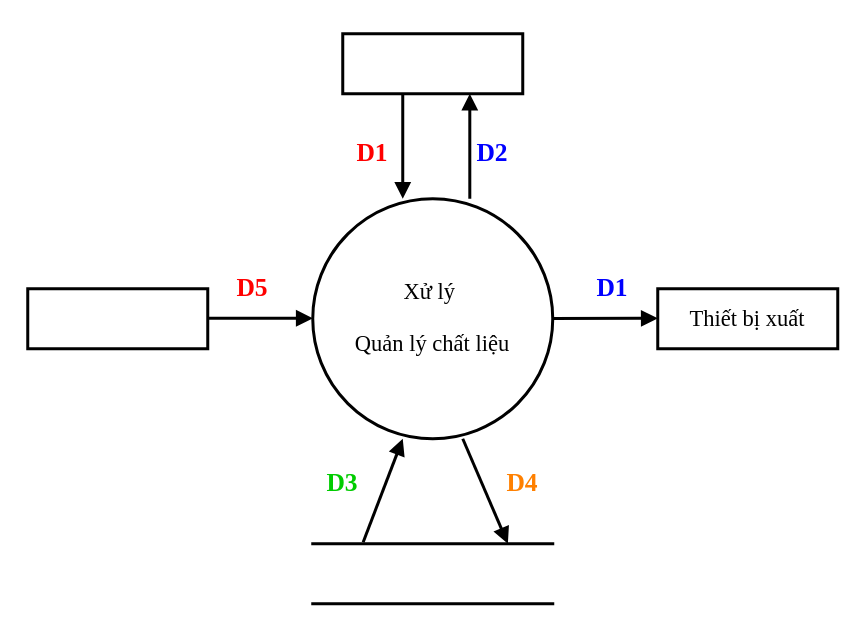
Some shapes in this 864 by 630 pixel diagram are drawn without their labels. The centre of each missing label's shape, as x and y in pixels:
Nhân viên: [432,63]
Thiết bị nhập: [117,318]
